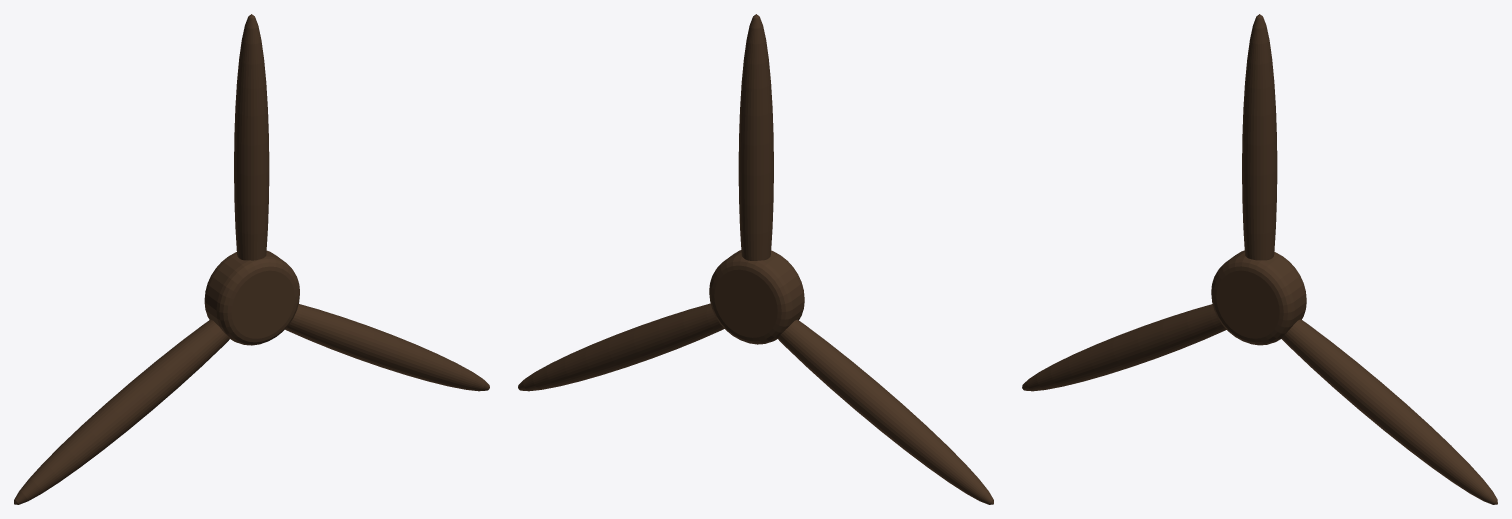
Rendered from Ventilo.glb.
3 renders of one model, left to right at view 1: azimuth 30°, elevation 25°; view 2: azimuth 150°, elevation 25°; view 3: azimuth 330°, elevation 25°, orthographic.
Visible parts, largest first — view 1: Sphere.002, Sphere, Circle, Sphere.001; view 2: Sphere.002, Sphere, Circle, Sphere.001; view 3: Sphere.001, Sphere, Circle, Sphere.002.
Boxes of the visible parts, <box> form: Sphere.002: <box>14,319,229,504</box>; Sphere: <box>234,14,269,260</box>; Circle: <box>204,250,299,345</box>; Sphere.001: <box>285,304,489,391</box>; Sphere.002: <box>778,319,993,504</box>; Sphere: <box>738,14,773,260</box>; Circle: <box>709,250,804,344</box>; Sphere.001: <box>518,303,724,391</box>; Sphere.001: <box>1281,319,1497,504</box>; Sphere: <box>1242,14,1277,260</box>; Circle: <box>1211,250,1306,345</box>; Sphere.002: <box>1022,304,1226,391</box>.
Size of the model in its own units: 36.07 by 31.4 by 2.88.
